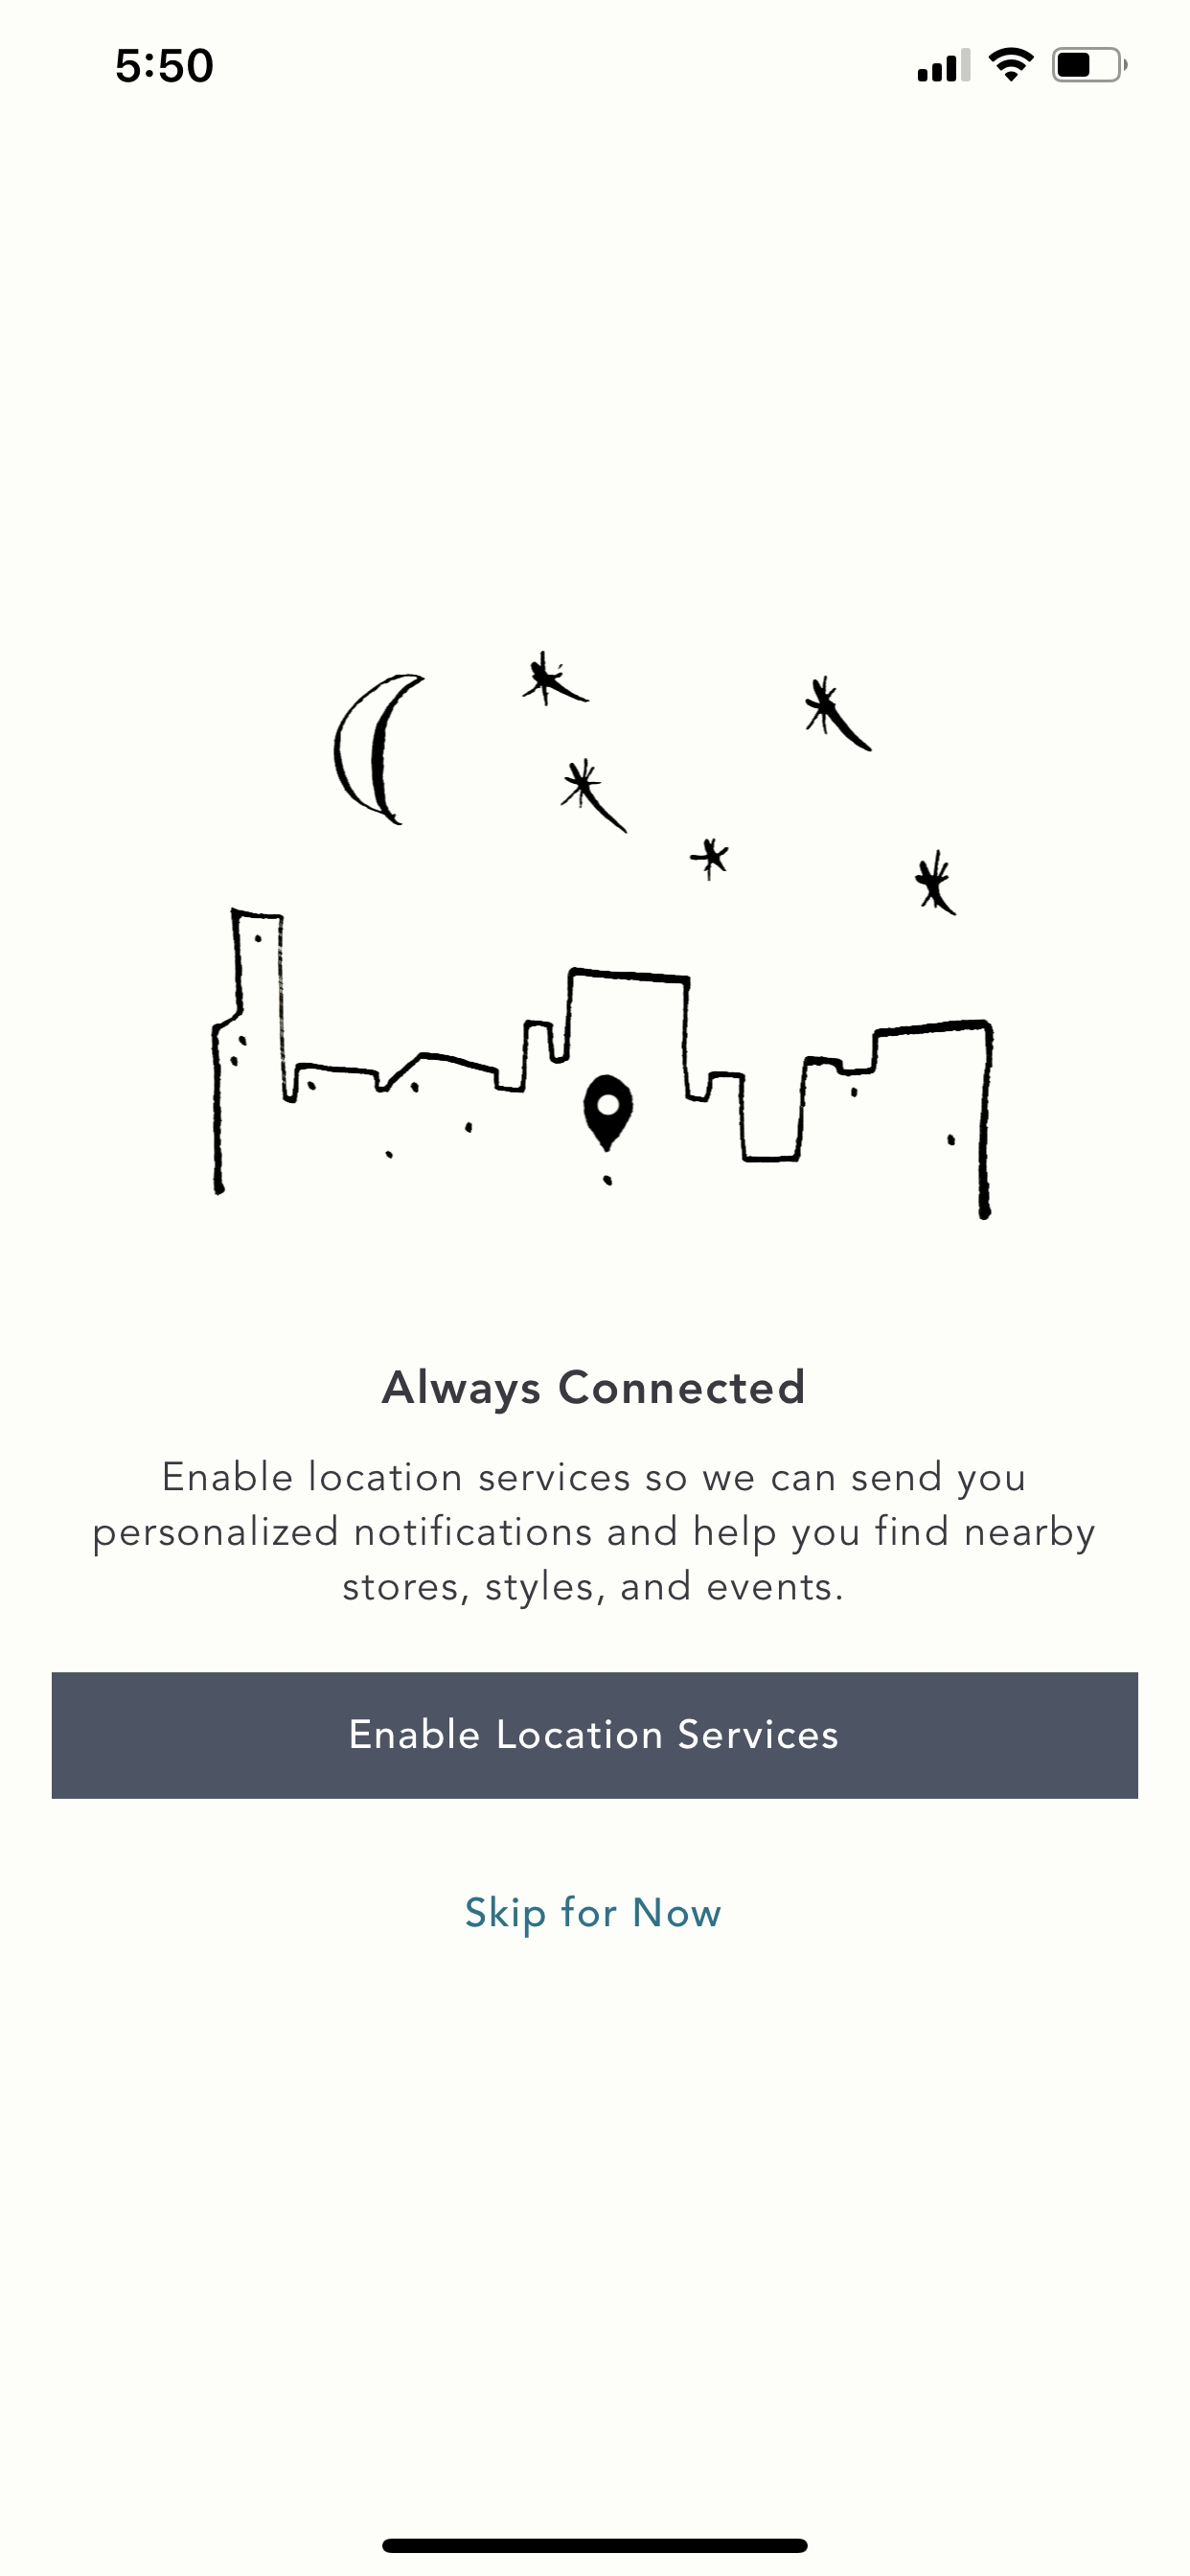Image: (210, 651, 994, 1222)
Text: (95, 1459, 1095, 1608), (381, 1367, 802, 1414), (465, 1896, 722, 1939)
TextButton: (51, 1672, 1139, 1799)
UpperTaskBar: (117, 48, 1129, 84)
